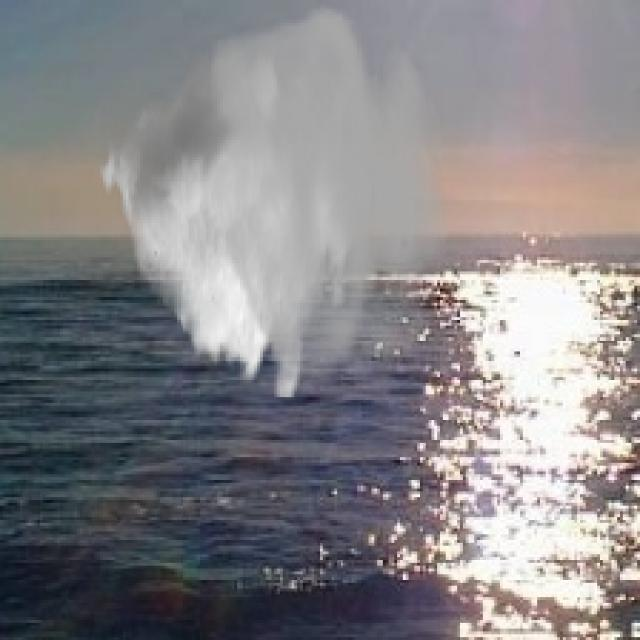smoke: (97, 0, 449, 397)
